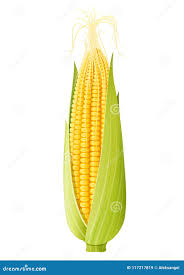milho: (51, 10, 134, 252)
